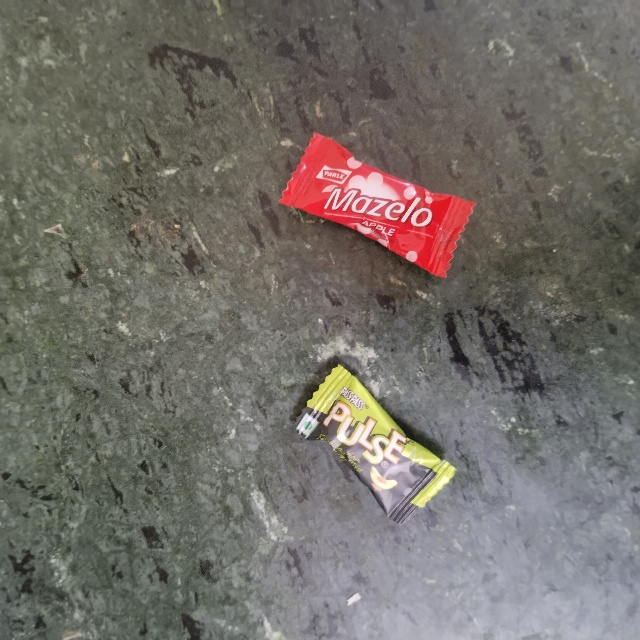Mazelo: (308, 132, 490, 213)
Pulse: (339, 360, 504, 449)
